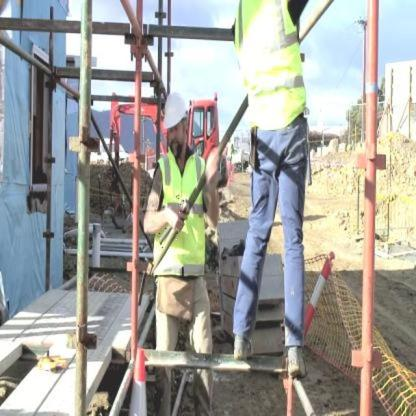bota: (286, 341, 306, 380), (232, 326, 254, 360)
capacete: (163, 93, 189, 159)
